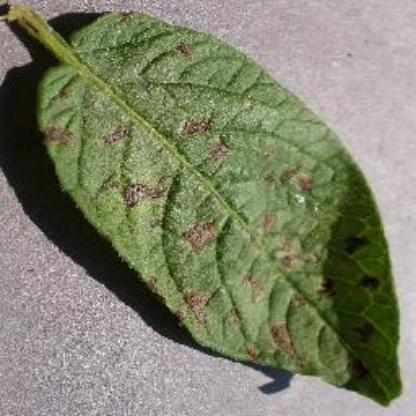Early-Blight: (4, 2, 408, 406)
